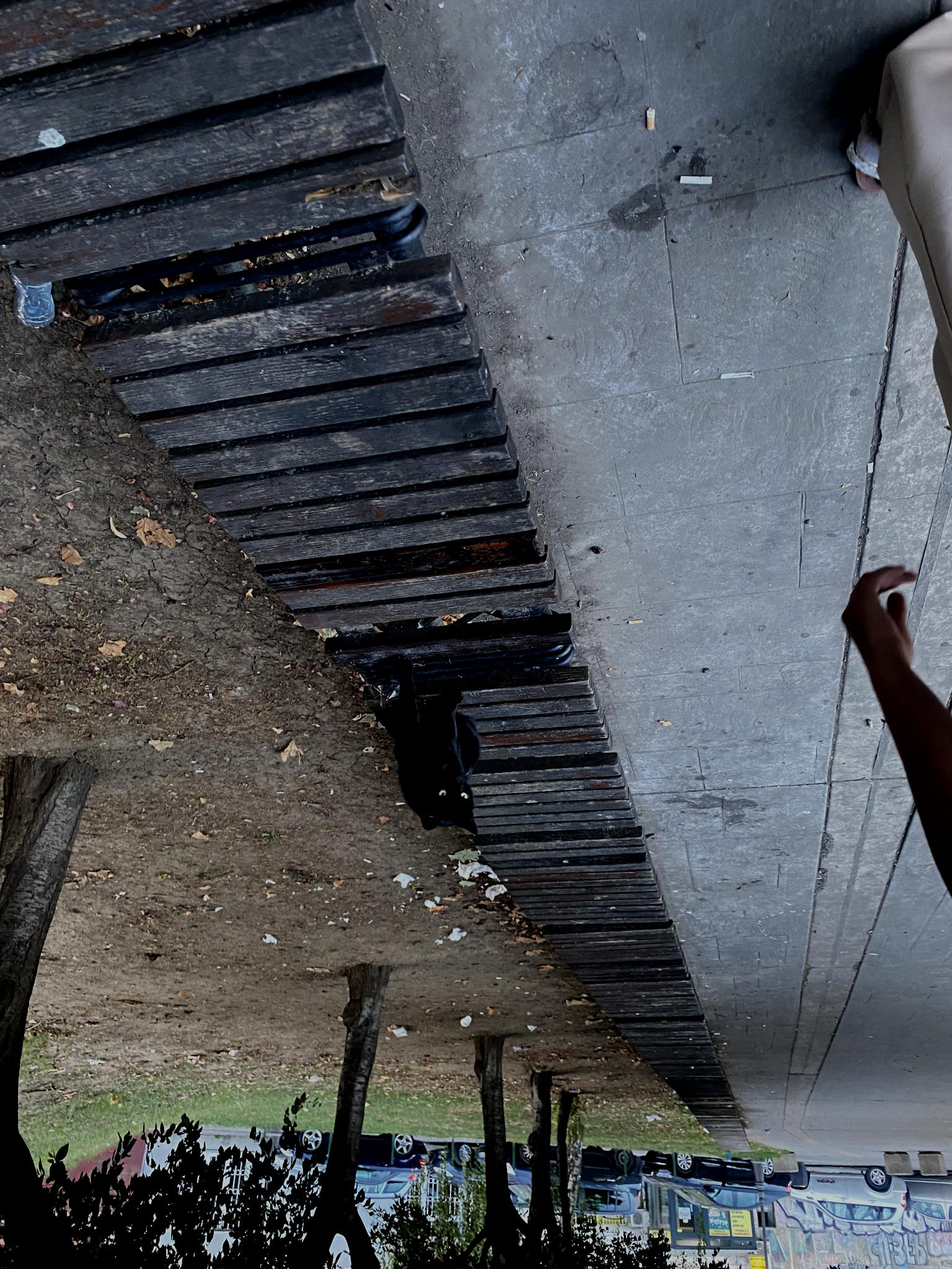macka: (394, 655, 481, 837)
